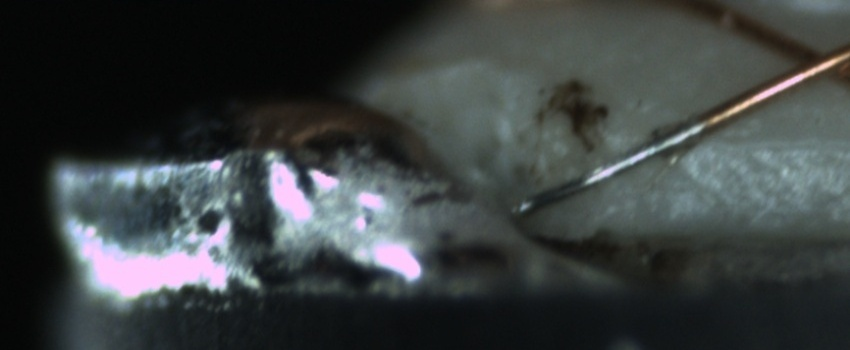CL: (765, 26, 850, 94)
DL: (687, 106, 849, 170)
TS: (508, 120, 707, 218)
